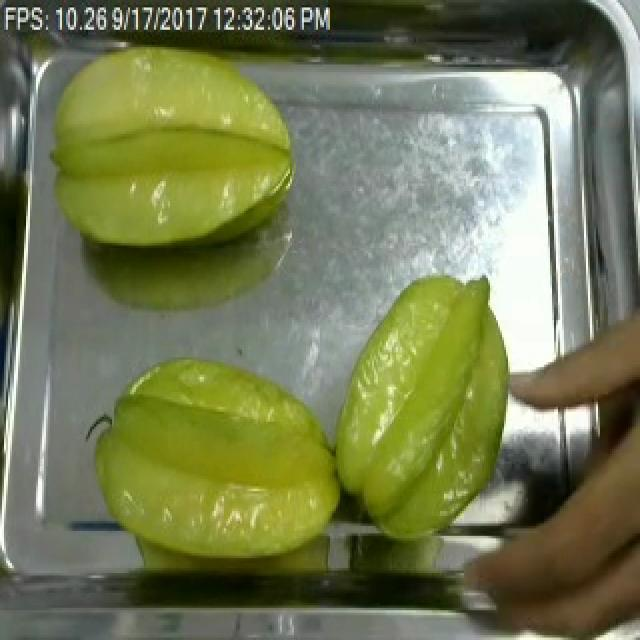fruit: (80, 340, 356, 575), (36, 30, 304, 258), (322, 268, 524, 558), (514, 283, 640, 414)
